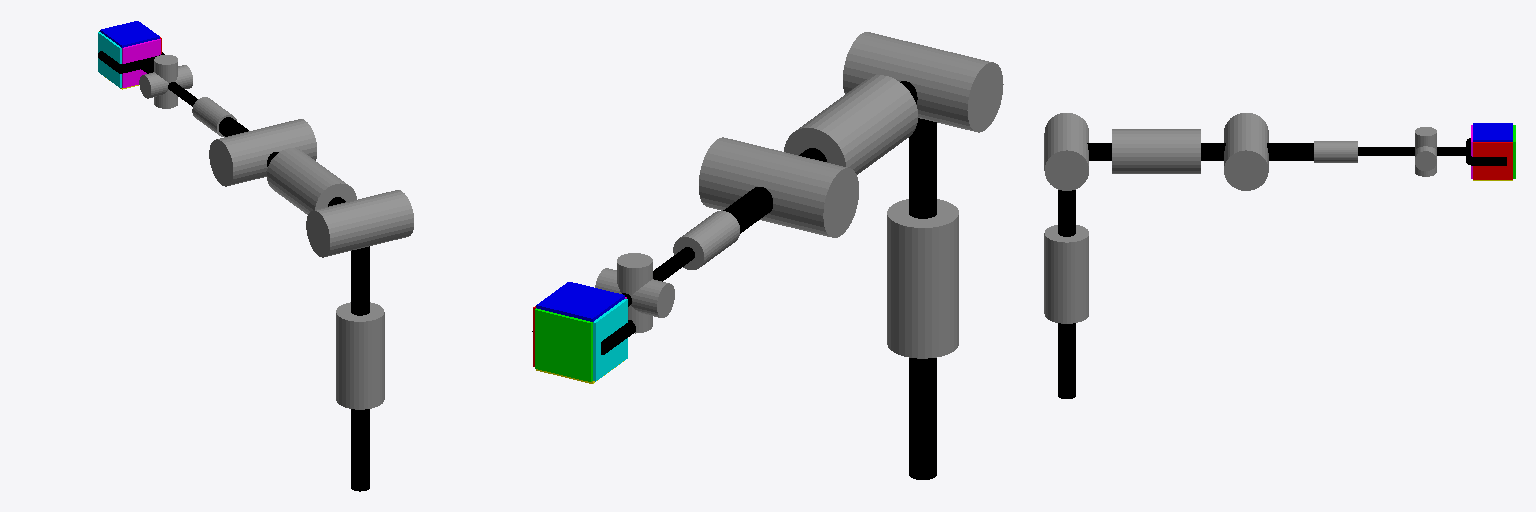
URDF robot description (sevenDOF):
<?xml version="1.0"?>

<robot name="sevenDOF">
  
  <!-- *************************************************** -->
  <!-- ******************** Kinematics ******************* -->
  <!-- *************************************************** -->

  <link name="world"/>

  <joint name="theta1" type="continuous">
    <parent link="world"/>
    <child  link="link1"/>
    <origin xyz="0 0 0.6" rpy="0 0 0"/>
    <axis   xyz="0 0 1"/>
    <dynamics damping="0.5"/>
  </joint>

  <link name="link1"/>

  <joint name="theta2" type="continuous">
    <parent link="link1"/>
    <child  link="link2"/>
    <origin xyz="0 0 0" rpy="0 0 0"/>
    <axis   xyz="1 0 0"/>
    <dynamics damping="1.0"/>
  </joint>

  <link name="link2"/>

  <joint name="attach-shoulder" type="fixed">
    <parent link="link2"/>
    <child  link="shoulder"/>
  </joint>

  <link name="shoulder"/>

  <joint name="theta3" type="continuous">
    <parent link="link2"/>
    <child  link="link3"/>
    <origin xyz="0 0.4 0" rpy="0 0 0"/>
    <axis   xyz="0 1 0 "/>
    <dynamics damping="0.05"/>
  </joint>

  <link name="link3"/>

  <joint name="theta4" type="continuous">
    <parent link="link3"/>
    <child  link="link4"/>
    <origin xyz="0 0 0" rpy="0 0 0"/>
    <axis   xyz="1 0 0 "/>
    <dynamics damping="0.1"/>
  </joint>

  <link name="link4"/>

  <joint name="attach-elbow" type="fixed">
    <parent link="link4"/>
    <child  link="elbow"/>
  </joint>

  <link name="elbow"/>

  <joint name="theta5" type="continuous">
    <parent link="link4"/>
    <child  link="link5"/>
    <origin xyz="0 0.4 0" rpy="0 0 0"/>
    <axis   xyz="0 1 0"/>
    <dynamics damping="0.02"/>
  </joint>

  <link name="link5"/>

  <joint name="theta6" type="continuous">
    <parent link="link5"/>
    <child  link="link6"/>
    <origin xyz="0 0 0" rpy="0 0 0"/>
    <axis   xyz="0 0 1"/>
    <dynamics damping="0.02"/>
  </joint>

  <link name="link6"/>

  <joint name="theta7" type="continuous">
    <parent link="link6"/>
    <child  link="link7"/>
    <origin xyz="0 0 0" rpy="0 0 0"/>
    <axis   xyz="1 0 0"/>
    <dynamics damping="0.02"/>
  </joint>

  <link name="link7"/>

  <joint name="attach-wrist" type="fixed">
    <parent link="link7"/>
    <child  link="wrist"/>
  </joint>

  <link name="wrist"/>

  <joint name="final" type="fixed">
    <parent link="link7"/>
    <child  link="tip"/>
    <origin xyz="0 0.15 0" rpy="0 0 0"/>
  </joint>

  <link name="tip"/>


  <!-- *************************************************** -->
  <!-- ******************* RVIZ Colors ******************* -->
  <!-- *************************************************** -->

  <material name="white">    <color rgba="1.00 1.00 1.00 1"/>  </material>
  <material name="gray">     <color rgba="0.60 0.60 0.60 1"/>  </material>
  <material name="table">    <color rgba="0.85 0.77 0.77 1"/>  </material>
  <material name="black">    <color rgba="0.00 0.00 0.00 1"/>  </material>

  <material name="red">      <color rgba="1.00 0.00 0.00 1"/>  </material>
  <material name="green">    <color rgba="0.00 1.00 0.00 1"/>  </material>
  <material name="blue">     <color rgba="0.00 0.00 1.00 1"/>  </material>

  <material name="cyan">     <color rgba="0.00 1.00 1.00 1"/>  </material>
  <material name="magenta">  <color rgba="1.00 0.00 1.00 1"/>  </material>
  <material name="yellow">   <color rgba="1.00 1.00 0.00 1"/>  </material>

  <material name="orange">   <color rgba="1.00 0.65 0.00 1"/>  </material>


  <!-- *************************************************** -->
  <!-- ****** Building Blocks (Visual AND Inertial) ****** -->
  <!-- *************************************************** -->

  <!-- *** World-Fixed: Mount 1, Motor 1 *** -->

  <joint name="attach-mount1" type="fixed">
    <parent link="world"/>
    <child  link="mount1"/>
  </joint>
  <link name="mount1">
    <visual>
      <origin xyz="0 0 0.1" rpy="0 0 0"/>
      <geometry>
	<cylinder length="0.2" radius="0.02"/>
      </geometry>
      <material name="black"/>
    </visual>
    <collision>
      <origin xyz="0 0 0.1" rpy="0 0 0"/>
      <geometry>
	<cylinder length="0.2" radius="0.02"/>
      </geometry>
    </collision>
    <inertial>
      <origin xyz="0 0 0.1" rpy="0 0 0"/>
      <mass value="0.2"/>
      <inertia
        ixx="0.000687" ixy="0.0" ixz="0.0"
        iyy="0.000687" iyz="0.0"
        izz="0.000040"/>
    </inertial>
  </link>

  <joint name="attach-motor1" type="fixed">
    <parent link="world"/>
    <child  link="motor1"/>
  </joint>
  <link name="motor1">
    <visual>
      <origin xyz="0 0 0.3" rpy="0 0 0"/>
      <geometry>
	<cylinder length="0.2" radius="0.05"/>
      </geometry>
      <material name="gray"/>
    </visual>
    <collision>
      <origin xyz="0 0 0.3" rpy="0 0 0"/>
      <geometry>
	<cylinder length="0.2" radius="0.05"/>
      </geometry>
    </collision>
    <inertial>
      <origin xyz="0 0 0.3" rpy="0 0 0"/>
      <mass value="2.0"/>
      <inertia
        ixx="0.007917" ixy="0.0" ixz="0.0"
        iyy="0.007917" iyz="0.0"
        izz="0.002500"/>
    </inertial>
  </link>

  <!-- *** Motor 1 Output: Mount 2, Motor 2 *** -->

  <joint name="attach-mount2" type="fixed">
    <parent link="link1"/>
    <child  link="mount2"/>
  </joint>
  <link name="mount2">
    <visual>
      <origin xyz="0 0 -0.1" rpy="0 0 0"/>
      <geometry>
	<cylinder length="0.2" radius="0.02"/>
      </geometry>
      <material name="black"/>
    </visual>
    <collision>
      <origin xyz="0 0 -0.1" rpy="0 0 0"/>
      <geometry>
	<cylinder length="0.2" radius="0.02"/>
      </geometry>
    </collision>
    <inertial>
      <origin xyz="0 0 -0.1" rpy="0 0 0"/>
      <mass value="0.2"/>
      <inertia
        ixx="0.000687" ixy="0.0" ixz="0.0"
        iyy="0.000687" iyz="0.0"
        izz="0.000040"/>
    </inertial>
  </link>

  <joint name="attach-motor2" type="fixed">
    <parent link="link1"/>
    <child  link="motor2"/>
  </joint>
  <link name="motor2">
    <visual>
      <origin xyz="0 0 0" rpy="0 1.5708 0"/>
      <geometry>
	<cylinder length="0.2" radius="0.05"/>
      </geometry>
      <material name="gray"/>
    </visual>
    <collision>
      <origin xyz="0 0 0" rpy="0 1.5708 0"/>
      <geometry>
	<cylinder length="0.2" radius="0.05"/>
      </geometry>
    </collision>
    <inertial>
      <origin xyz="0 0 0" rpy="0 1.5708 0"/>
      <mass value="2.0"/>
      <inertia
        ixx="0.007917" ixy="0.0" ixz="0.0"
        iyy="0.007917" iyz="0.0"
        izz="0.002500"/>
    </inertial>
  </link>

  <!-- *** Motor 2 Output: Mount 3, Motor 3 *** -->

  <joint name="attach-mount3" type="fixed">
    <parent link="link2"/>
    <child  link="mount3"/>
  </joint>
  <link name="mount3">
    <visual>
      <origin xyz="0 0.1 0" rpy="1.5708 0 0"/>
      <geometry>
	<cylinder length="0.2" radius="0.02"/>
      </geometry>
      <material name="black"/>
    </visual>
    <collision>
      <origin xyz="0 0.1 0" rpy="1.5708 0 0"/>
      <geometry>
	<cylinder length="0.2" radius="0.02"/>
      </geometry>
    </collision>
    <inertial>
      <origin xyz="0 0.1 0" rpy="1.5708 0 0"/>
      <mass value="0.2"/>
      <inertia
        ixx="0.000687" ixy="0.0" ixz="0.0"
        iyy="0.000687" iyz="0.0"
        izz="0.000040"/>
    </inertial>
  </link>

  <joint name="attach-motor3" type="fixed">
    <parent link="link2"/>
    <child  link="motor3"/>
  </joint>
  <link name="motor3">
    <visual>
      <origin xyz="0 0.2 0" rpy="1.5708 0 0"/>
      <geometry>
	<cylinder length="0.2" radius="0.05"/>
      </geometry>
      <material name="gray"/>
    </visual>
    <collision>
      <origin xyz="0 0.2 0" rpy="1.5708 0 0"/>
      <geometry>
	<cylinder length="0.2" radius="0.05"/>
      </geometry>
    </collision>
    <inertial>
      <origin xyz="0 0.2 0" rpy="1.5708 0 0"/>
      <mass value="2.0"/>
      <inertia
        ixx="0.007917" ixy="0.0" ixz="0.0"
        iyy="0.007917" iyz="0.0"
        izz="0.002500"/>
    </inertial>
  </link>

  <!-- *** Motor 3 Output: Mount 4, Motor 4 *** -->

  <joint name="attach-mount4" type="fixed">
    <parent link="link3"/>
    <child  link="mount4"/>
  </joint>
  <link name="mount4">
    <visual>
      <origin xyz="0 -0.1 0" rpy="1.5708 0 0"/>
      <geometry>
	<cylinder length="0.2" radius="0.02"/>
      </geometry>
      <material name="black"/>
    </visual>
    <collision>
      <origin xyz="0 -0.1 0" rpy="1.5708 0 0"/>
      <geometry>
	<cylinder length="0.2" radius="0.02"/>
      </geometry>
    </collision>
    <inertial>
      <origin xyz="0 -0.1 0" rpy="1.5708 0 0"/>
      <mass value="0.2"/>
      <inertia
        ixx="0.000687" ixy="0.0" ixz="0.0"
        iyy="0.000687" iyz="0.0"
        izz="0.000040"/>
    </inertial>
  </link>

  <joint name="attach-motor4" type="fixed">
    <parent link="link3"/>
    <child  link="motor4"/>
  </joint>
  <link name="motor4">
    <visual>
      <origin xyz="0 0 0" rpy="0 1.5708 0"/>
      <geometry>
	<cylinder length="0.2" radius="0.05"/>
      </geometry>
      <material name="gray"/>
    </visual>
    <collision>
      <origin xyz="0 0 0" rpy="0 1.5708 0"/>
      <geometry>
	<cylinder length="0.2" radius="0.05"/>
      </geometry>
    </collision>
    <inertial>
      <origin xyz="0 0 0" rpy="0 1.5708 0"/>
      <mass value="2.0"/>
      <inertia
        ixx="0.007917" ixy="0.0" ixz="0.0"
        iyy="0.007917" iyz="0.0"
        izz="0.002500"/>
    </inertial>
  </link>

  <!-- *** Motor 4 Output: Mount 5, Motor 5 *** -->

  <joint name="attach-mount5" type="fixed">
    <parent link="link4"/>
    <child  link="mount5"/>
  </joint>
  <link name="mount5">
    <visual>
      <origin xyz="0 0.1 0" rpy="1.5708 0 0"/>
      <geometry>
	<cylinder length="0.2" radius="0.02"/>
      </geometry>
      <material name="black"/>
    </visual>
    <collision>
      <origin xyz="0 0.1 0" rpy="1.5708 0 0"/>
      <geometry>
	<cylinder length="0.2" radius="0.02"/>
      </geometry>
    </collision>
    <inertial>
      <origin xyz="0 0.1 0" rpy="1.5708 0 0"/>
      <mass value="0.2"/>
      <inertia
        ixx="0.000687" ixy="0.0" ixz="0.0"
        iyy="0.000687" iyz="0.0"
        izz="0.000040"/>
    </inertial>
  </link>

  <joint name="attach-motor5" type="fixed">
    <parent link="link4"/>
    <child  link="motor5"/>
  </joint>
  <link name="motor5">
    <visual>
      <origin xyz="0 0.2 0" rpy="1.5708 0 0"/>
      <geometry>
	<cylinder length="0.1" radius="0.025"/>
      </geometry>
      <material name="gray"/>
    </visual>
    <collision>
      <origin xyz="0 0.2 0" rpy="1.5708 0 0"/>
      <geometry>
	<cylinder length="0.1" radius="0.025"/>
      </geometry>
    </collision>
    <inertial>
      <origin xyz="0 0.2 0" rpy="1.5708 0 0"/>
      <mass value="1.0"/>
      <inertia
        ixx="0.000990" ixy="0.0" ixz="0.0"
        iyy="0.000990" iyz="0.0"
        izz="0.000313"/>
    </inertial>
  </link>

  <!-- *** Motor 5 Output: Mount 6, Motor 6 *** -->

  <joint name="attach-mount6" type="fixed">
    <parent link="link5"/>
    <child  link="mount6"/>
  </joint>
  <link name="mount6">
    <visual>
      <origin xyz="0 -0.1 0" rpy="1.5708 0 0"/>
      <geometry>
	<cylinder length="0.2" radius="0.01"/>
      </geometry>
      <material name="black"/>
    </visual>
    <collision>
      <origin xyz="0 -0.1 0" rpy="1.5708 0 0"/>
      <geometry>
	<cylinder length="0.2" radius="0.01"/>
      </geometry>
    </collision>
    <inertial>
      <origin xyz="0 -0.1 0" rpy="1.5708 0 0"/>
      <mass value="0.1"/>
      <inertia
        ixx="0.000336" ixy="0.0" ixz="0.0"
        iyy="0.000336" iyz="0.0"
        izz="0.000005"/>
    </inertial>
  </link>

  <joint name="attach-motor6" type="fixed">
    <parent link="link5"/>
    <child  link="motor6"/>
  </joint>
  <link name="motor6">
    <visual>
      <origin xyz="0 0 0" rpy="0 0 0"/>
      <geometry>
	<cylinder length="0.1" radius="0.025"/>
      </geometry>
      <material name="gray"/>
    </visual>
    <collision>
      <origin xyz="0 0 0" rpy="0 0 0"/>
      <geometry>
	<cylinder length="0.1" radius="0.025"/>
      </geometry>
    </collision>
    <inertial>
      <origin xyz="0 0 0" rpy="0 0 0"/>
      <mass value="1.0"/>
      <inertia
        ixx="0.000990" ixy="0.0" ixz="0.0"
        iyy="0.000990" iyz="0.0"
        izz="0.000313"/>
    </inertial>
  </link>

  <!-- *** Motor 6 Output: Motor 7 *** -->

  <joint name="attach-motor7" type="fixed">
    <parent link="link6"/>
    <child  link="motor7"/>
  </joint>
  <link name="motor7">
    <visual>
      <origin xyz="0 0 0" rpy="0 1.5708 0"/>
      <geometry>
	<cylinder length="0.1" radius="0.025"/>
      </geometry>
      <material name="gray"/>
    </visual>
    <collision>
      <origin xyz="0 0 0" rpy="0 1.5708 0"/>
      <geometry>
	<cylinder length="0.1" radius="0.025"/>
      </geometry>
    </collision>
    <inertial>
      <origin xyz="0 0 0" rpy="0 1.5708 0"/>
      <mass value="1.0"/>
      <inertia
        ixx="0.000990" ixy="0.0" ixz="0.0"
        iyy="0.000990" iyz="0.0"
        izz="0.000313"/>
    </inertial>
  </link>

  <!-- *** Motor 7 Output: Base, Palm, Fingers *** -->

  <joint name="attach-handbase" type="fixed">
    <parent link="link7"/>
    <child  link="handbase"/>
  </joint>
  <link name="handbase">
    <visual>
      <origin xyz="0 0.05 0" rpy="1.5708 0 0"/>
      <geometry>
	<cylinder length="0.1" radius="0.01"/>
      </geometry>
      <material name="black"/>
    </visual>
    <collision>
      <origin xyz="0 0.05 0" rpy="1.5708 0 0"/>
      <geometry>
	<cylinder length="0.1" radius="0.01"/>
      </geometry>
    </collision>
    <inertial>
      <origin xyz="0 0.05 0" rpy="1.5708 0 0"/>
      <mass value="0.05"/>
      <inertia
        ixx="0.000043" ixy="0.0" ixz="0.0"
        iyy="0.000043" iyz="0.0"
        izz="0.000003"/>
    </inertial>
  </link>

  <joint name="attach-palm" type="fixed">
    <parent link="link7"/>
    <child  link="palm"/>
  </joint>
  <link name="palm">
    <visual>
      <origin xyz="0 0.1 0" rpy="0 1.5708 0"/>
      <geometry>
	<cylinder length="0.1" radius="0.01"/>
      </geometry>
      <material name="black"/>
    </visual>
    <inertial>
      <origin xyz="0 0.1 0" rpy="0 1.5708 0"/>
      <mass value="0.05"/>
      <inertia
        ixx="0.000043" ixy="0.0" ixz="0.0"
        iyy="0.000043" iyz="0.0"
        izz="0.000003"/>
    </inertial>
  </link>

  <joint name="attach-leftfinger" type="fixed">
    <parent link="link7"/>
    <child  link="leftfinger"/>
  </joint>
  <link name="leftfinger">
    <visual>
      <origin xyz="-0.05 0.14 0" rpy="1.5708 0 0"/>
      <geometry>
	<cylinder length="0.08" radius="0.01"/>
      </geometry>
      <material name="black"/>
    </visual>
    <inertial>
      <origin xyz="-0.05 0.14 0" rpy="1.5708 0 0"/>
      <mass value="0.05"/>
      <inertia
        ixx="0.000022" ixy="0.0" ixz="0.0"
        iyy="0.000022" iyz="0.0"
        izz="0.000002"/>
    </inertial>
  </link>

  <joint name="attach-rightfinger" type="fixed">
    <parent link="link7"/>
    <child  link="rightfinger"/>
  </joint>
  <link name="rightfinger">
    <visual>
      <origin xyz="0.05 0.14 0" rpy="1.5708 0 0"/>
      <geometry>
	<cylinder length="0.08" radius="0.01"/>
      </geometry>
      <material name="black"/>
    </visual>
    <inertial>
      <origin xyz="0.05 0.14 0" rpy="1.5708 0 0"/>
      <mass value="0.05"/>
      <inertia
        ixx="0.000022" ixy="0.0" ixz="0.0"
        iyy="0.000022" iyz="0.0"
        izz="0.000002"/>
    </inertial>
  </link>

  <!-- *** Cube: Six sides *** -->

  <joint name="attach-cube" type="fixed">
    <parent link="tip"/>
    <child  link="cube"/>
  </joint>
  <link name="cube">
    <collision>
      <origin xyz="0 0 0" rpy="0 0 0"/>
      <geometry>
	<box size="0.10 0.10 0.10"/>
      </geometry>
    </collision>
    <inertial>
      <origin xyz="0 0 0" rpy="0 0 0"/>
      <mass value="1.0"/>
      <inertia
        ixx="0.000120" ixy="0.0" ixz="0.0"
        iyy="0.000120" iyz="0.0"
        izz="0.000120"/>
    </inertial>
  </link>

  <joint name="attach-cube-xp" type="fixed">
    <parent link="cube"/>
    <child  link="cube-xp"/>
  </joint>
  <link name="cube-xp">
    <visual>
      <origin         xyz=" 0.04   0    0"    rpy="0 0 0"/>
      <geometry> <box size="0.0202 0.09 0.09"/> </geometry>
      <material name="red"/>
    </visual>
  </link>

  <joint name="attach-cube-xm" type="fixed">
    <parent link="cube"/>
    <child  link="cube-xm"/>
  </joint>
  <link name="cube-xm">
    <visual>
      <origin         xyz="-0.04   0    0"    rpy="0 0 0"/>
      <geometry> <box size="0.0202 0.09 0.09"/> </geometry>
      <material name="cyan"/>
    </visual>
  </link>

  <joint name="attach-cube-yp" type="fixed">
    <parent link="cube"/>
    <child  link="cube-yp"/>
  </joint>
  <link name="cube-yp">
    <visual>
      <origin         xyz=" 0    0.04   0"    rpy="0 0 0"/>
      <geometry> <box size="0.09 0.0202 0.09"/> </geometry>
      <material name="green"/>
    </visual>
  </link>

  <joint name="attach-cube-ym" type="fixed">
    <parent link="cube"/>
    <child  link="cube-ym"/>
  </joint>
  <link name="cube-ym">
    <visual>
      <origin         xyz=" 0   -0.04   0"    rpy="0 0 0"/>
      <geometry> <box size="0.09 0.0202 0.09"/> </geometry>
      <material name="magenta"/>
    </visual>
  </link>

  <joint name="attach-cube-zp" type="fixed">
    <parent link="cube"/>
    <child  link="cube-zp"/>
  </joint>
  <link name="cube-zp">
    <visual>
      <origin         xyz=" 0    0    0.04"   rpy="0 0 0"/>
      <geometry> <box size="0.09 0.09 0.0202"/> </geometry>
      <material name="blue"/>
    </visual>
  </link>

  <joint name="attach-cube-zm" type="fixed">
    <parent link="cube"/>
    <child  link="cube-zm"/>
  </joint>
  <link name="cube-zm">
    <visual>
      <origin         xyz=" 0    0   -0.04"   rpy="0 0 0"/>
      <geometry> <box size="0.09 0.09 0.0202"/> </geometry>
      <material name="yellow"/>
    </visual>
  </link>


  <!-- *************************************************** -->
  <!-- ******************* Gazebo Colors ***************** -->
  <!-- *************************************************** -->

  <gazebo reference="motor1"> <material>Gazebo/Gray</material>  </gazebo>
  <gazebo reference="motor2"> <material>Gazebo/Gray</material>  </gazebo>
  <gazebo reference="motor3"> <material>Gazebo/Gray</material>  </gazebo>
  <gazebo reference="motor4"> <material>Gazebo/Gray</material>  </gazebo>
  <gazebo reference="motor5"> <material>Gazebo/Gray</material>  </gazebo>
  <gazebo reference="motor6"> <material>Gazebo/Gray</material>  </gazebo>
  <gazebo reference="motor7"> <material>Gazebo/Gray</material>  </gazebo>

  <gazebo reference="mount1">   <material>Gazebo/Black</material> </gazebo>
  <gazebo reference="mount2">   <material>Gazebo/Black</material> </gazebo>
  <gazebo reference="mount3">   <material>Gazebo/Black</material> </gazebo>
  <gazebo reference="mount4">   <material>Gazebo/Black</material> </gazebo>
  <gazebo reference="mount5">   <material>Gazebo/Black</material> </gazebo>
  <gazebo reference="mount6">   <material>Gazebo/Black</material> </gazebo>

  <gazebo reference="handbase">    <material>Gazebo/Black</material> </gazebo>
  <gazebo reference="palm">        <material>Gazebo/Black</material> </gazebo>
  <gazebo reference="leftfinger">  <material>Gazebo/Black</material> </gazebo>
  <gazebo reference="rightfinger"> <material>Gazebo/Black</material> </gazebo>

  <gazebo reference="cube-xp"> <material>Gazebo/Red</material>     </gazebo>
  <gazebo reference="cube-xm"> <material>Gazebo/Cyan</material>    </gazebo>
  <gazebo reference="cube-yp"> <material>Gazebo/Green</material>   </gazebo>
  <gazebo reference="cube-ym"> <material>Gazebo/Magenta</material> </gazebo>
  <gazebo reference="cube-zp"> <material>Gazebo/Blue</material>    </gazebo>
  <gazebo reference="cube-zm"> <material>Gazebo/Yellow</material>  </gazebo>


</robot>

--- Render facts (derived) ---
The picture shows the robot from 3 angles, left to right: view 1: azimuth 30°, elevation 25°; view 2: azimuth 150°, elevation 25°; view 3: azimuth 270°, elevation 25°; orthographic projection.
Model sevenDOF with 36 links and 35 joints (7 continuous, 28 fixed), rooted at world, posed every joint at zero.
Visible links, largest first — view 1: motor2, motor1, motor4, motor3, mount1, mount2, cube-zp, cube-ym, motor6, motor7, motor5, cube-xm; view 2: motor1, motor4, motor2, motor3, cube-yp, mount1, mount2, motor5, cube-zp, cube-xm, motor7, motor6 (+2 smaller); view 3: motor1, motor3, motor2, motor4, mount1, cube-xp, motor5, mount5, mount2, cube-zp, motor6.
Boxes of the visible links, x1,y1,x2,y2 form: motor2: (306, 190, 413, 257); motor1: (336, 302, 384, 409); motor4: (209, 119, 316, 186); motor3: (267, 148, 356, 214); mount1: (351, 409, 369, 491); mount2: (351, 246, 369, 315); cube-zp: (100, 21, 159, 47); cube-ym: (122, 39, 160, 87); motor6: (154, 55, 177, 108); motor7: (139, 65, 192, 98); motor5: (192, 97, 236, 136); cube-xm: (98, 32, 121, 87); motor1: (887, 199, 958, 358); motor4: (699, 137, 858, 237); motor2: (843, 32, 1003, 132); motor3: (784, 75, 917, 174); cube-yp: (535, 308, 592, 381); mount1: (909, 358, 936, 479); mount2: (909, 118, 936, 218); motor5: (673, 211, 739, 269); cube-zp: (536, 282, 624, 321); cube-xm: (593, 299, 627, 381); motor7: (595, 268, 674, 317); motor6: (617, 253, 652, 333); motor1: (1044, 225, 1088, 323); motor3: (1112, 129, 1200, 173); motor2: (1044, 113, 1088, 190); motor4: (1224, 113, 1268, 190); mount1: (1058, 323, 1075, 398); cube-xp: (1473, 142, 1512, 179); motor5: (1314, 141, 1357, 162); mount5: (1267, 143, 1313, 160); mount2: (1058, 190, 1075, 236); cube-zp: (1473, 123, 1512, 141); motor6: (1415, 127, 1436, 176).
Size in the robot's own frame: 0.2 by 1.05 by 0.6501 metres.
Geometry: primitives only (box / cylinder / sphere), no mesh files.